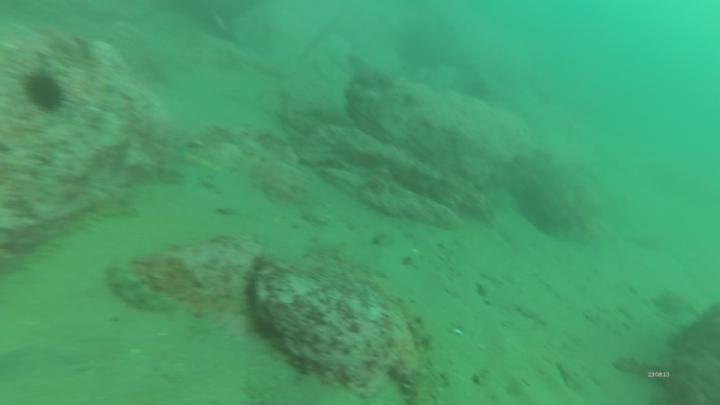echinus: (22, 70, 65, 118)
holothurian: (407, 313, 435, 405)
